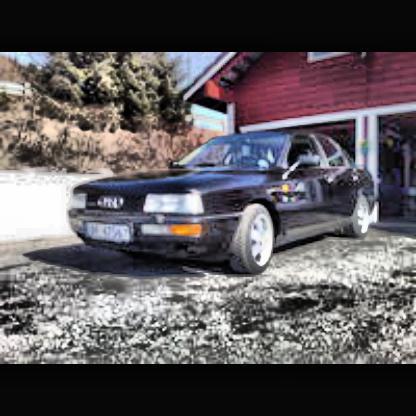Audi V8 Sedan 1994: (73, 138, 389, 277)
